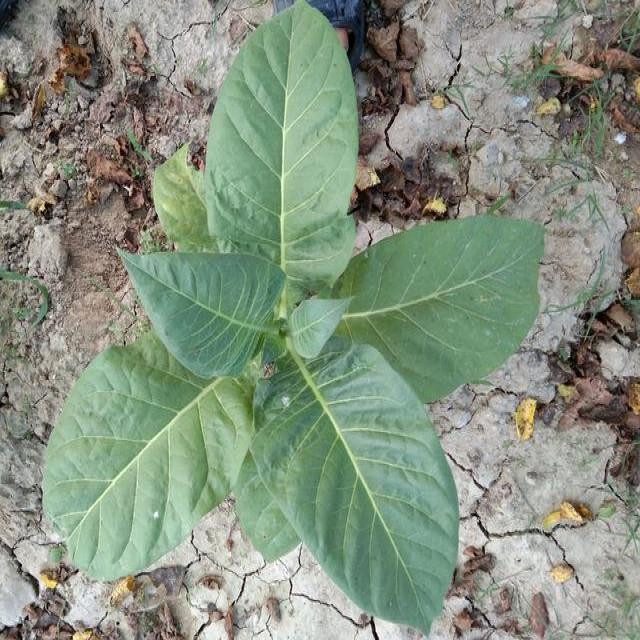crop: (60, 11, 532, 623)
